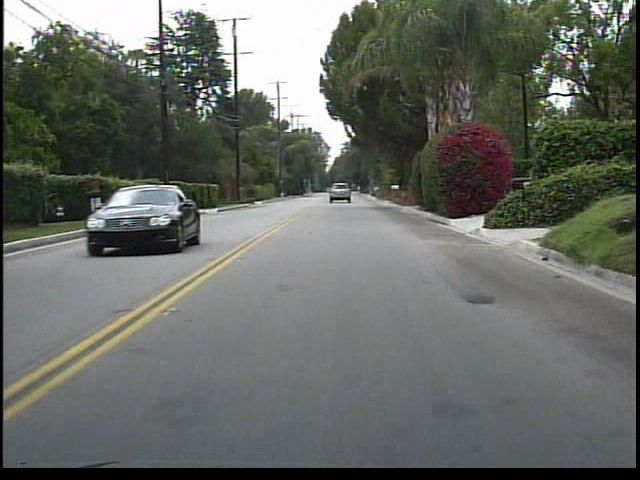car: (83, 185, 204, 260), (327, 181, 351, 204)
strada: (29, 239, 640, 450)
